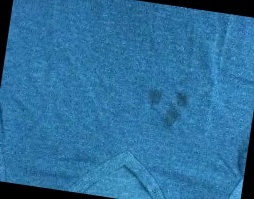oil: (142, 85, 190, 131)
